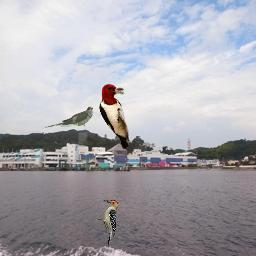Cuckoo: (44, 106, 93, 128)
Woodpecker: (99, 84, 129, 149), (95, 200, 118, 246)
